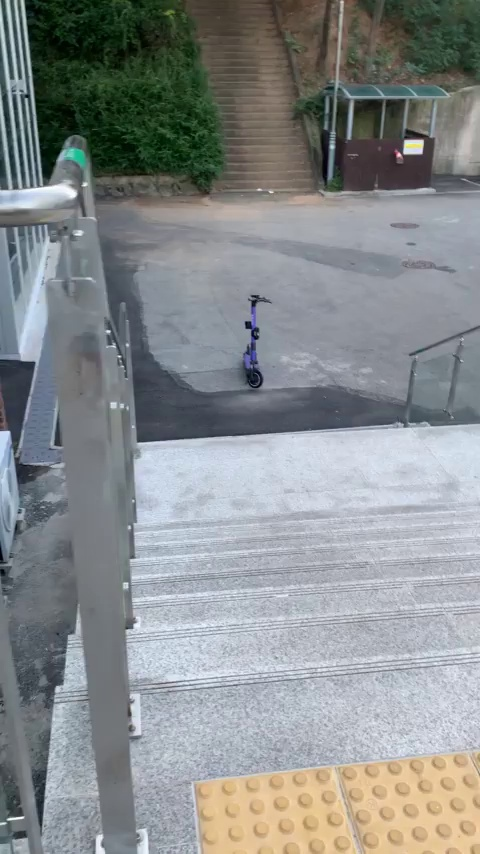beam: (225, 281, 280, 397)
